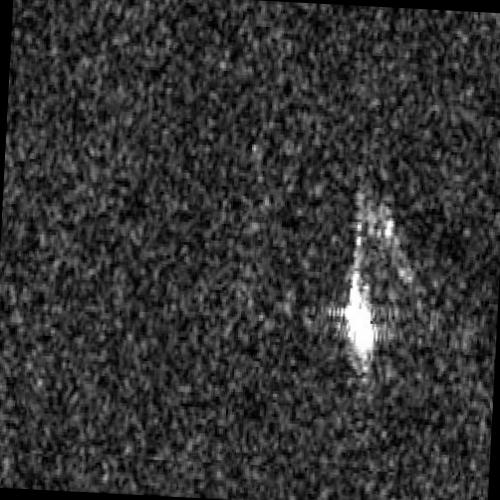ship: (343, 282, 376, 360)
